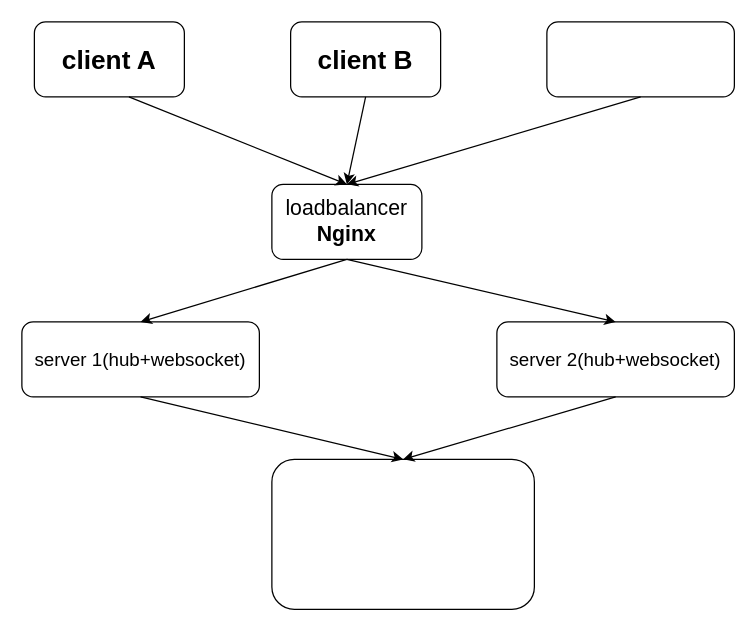
Image size: 756x631. Some labels were removed from this diagram. The centre of each missing label's shape, as x and y in pixels:
"client C websocke t" goes at (640,59).
"Redis (canvas state+event channel)" goes at (402,533).
